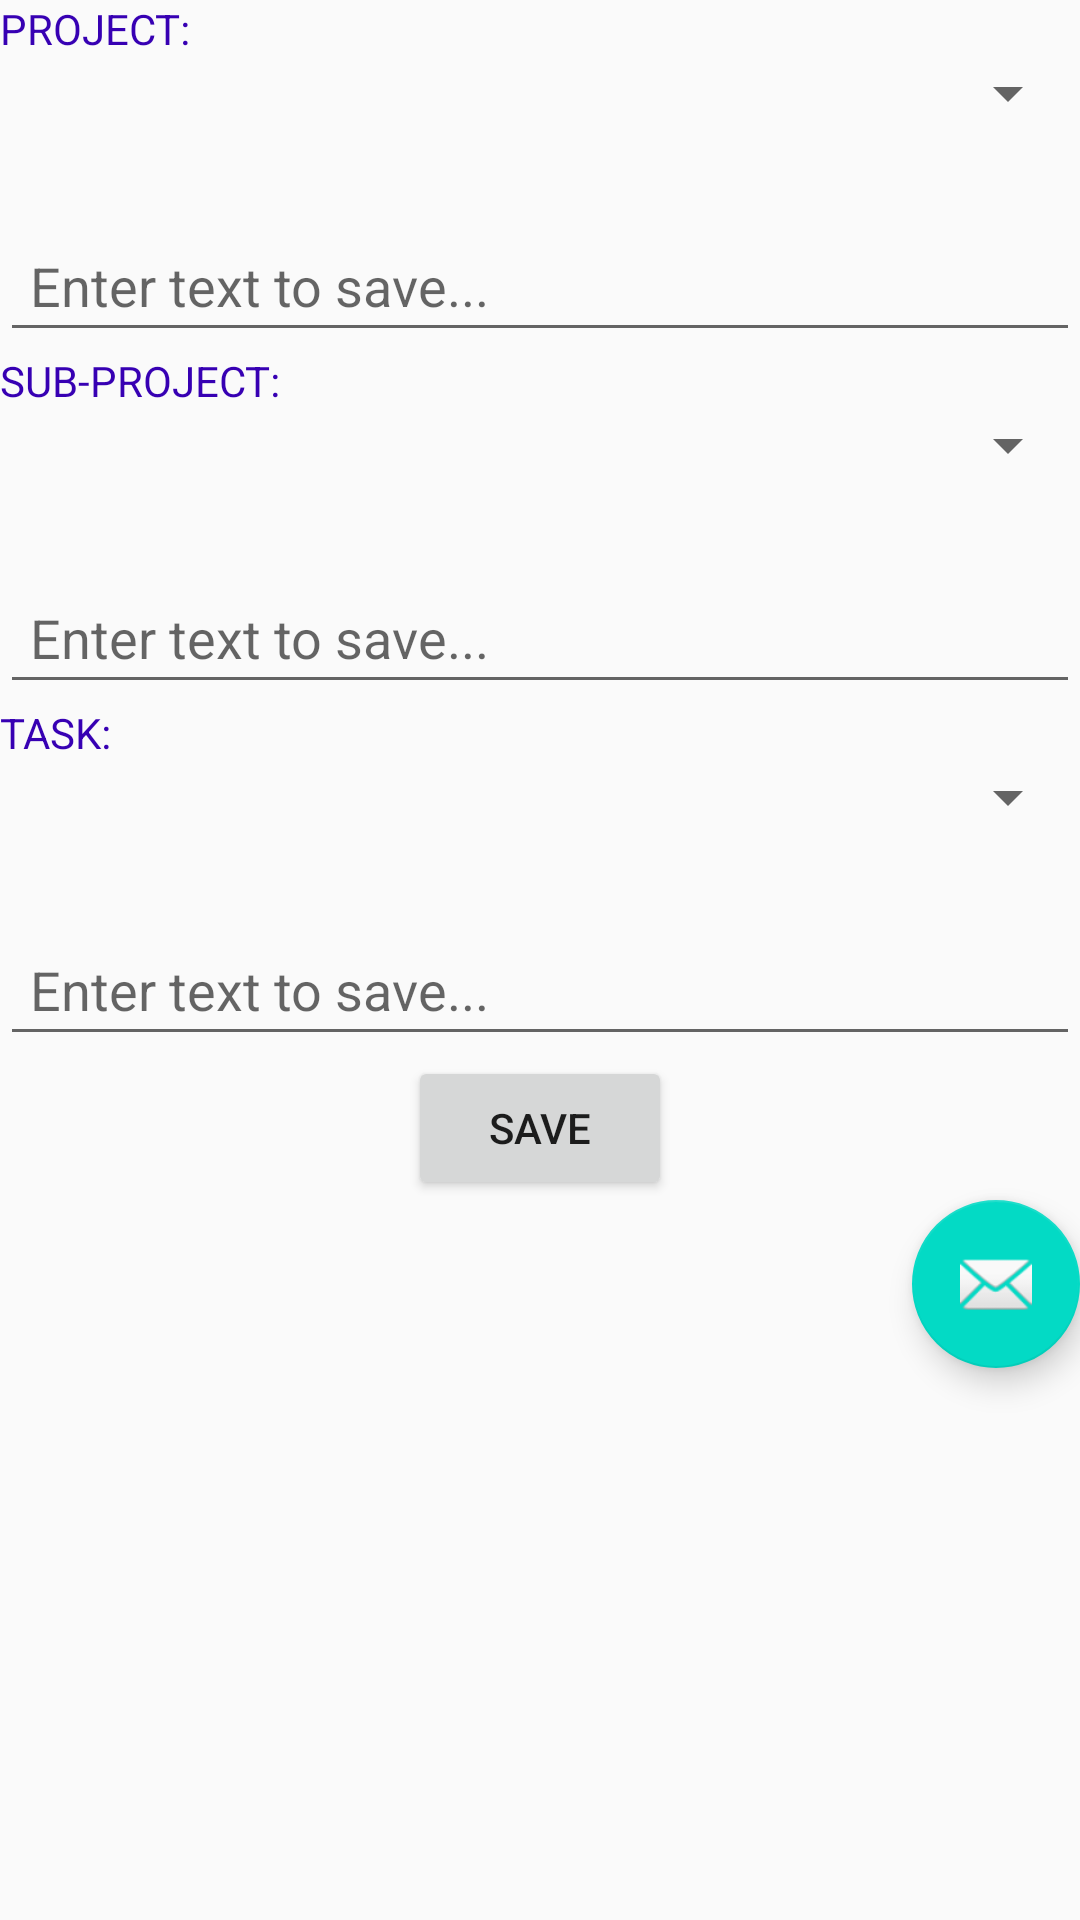

Named icons in this screenshot (1080×1920) and their bounding boxes, [x1,y1,x2,y2]:
email: [912,1200,1080,1368]
